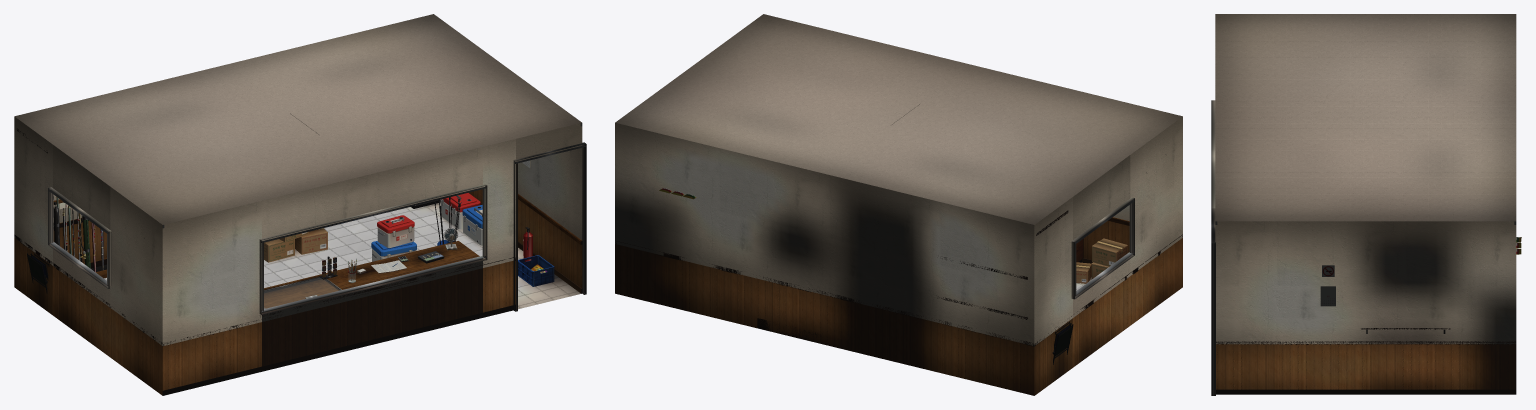
The model's file is lake_shop_interior.glb.
3 views of the same model, side by side, from view 1: azimuth 30°, elevation 25°; view 2: azimuth 150°, elevation 25°; view 3: azimuth 270°, elevation 25° (orthographic).
Parts seen in each view (by area): view 1: shopint_ceiling, shopint_wall, shopint_wainscot, shopint_atlas, shopint_floor, shopint_wood, shopint_glass; view 2: shopint_wall, shopint_ceiling, shopint_wainscot, shopint_atlas, shopint_wood; view 3: shopint_ceiling, shopint_wall, shopint_wainscot, shopint_atlas, shopint_wood.
Part boxes in pixels (box(x1,y1,x2,y2)): shopint_ceiling: box(15, 14, 581, 224); shopint_wall: box(14, 116, 582, 345); shopint_wainscot: box(14, 189, 582, 395); shopint_atlas: box(27, 113, 586, 395); shopint_floor: box(104, 202, 580, 309); shopint_wood: box(14, 128, 582, 346); shopint_glass: box(264, 273, 355, 308); shopint_wall: box(615, 116, 1182, 345); shopint_ceiling: box(615, 14, 1182, 224); shopint_wainscot: box(615, 221, 1182, 395); shopint_atlas: box(659, 104, 1165, 364); shopint_wood: box(615, 210, 1182, 346); shopint_ceiling: box(1215, 14, 1516, 221); shopint_wall: box(1215, 221, 1516, 344); shopint_wainscot: box(1216, 344, 1516, 389); shopint_atlas: box(1211, 100, 1521, 395); shopint_wood: box(1216, 328, 1516, 344).
Bounding box in the file's own units: 7.76 × 2.96 × 4.8.
Materials: 9 (7 with a texture image).
